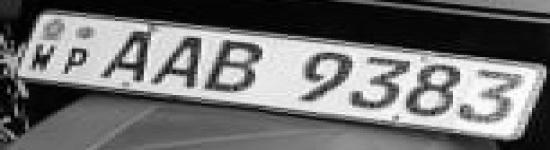3: (447, 63, 531, 131), (340, 51, 421, 114)
8: (396, 57, 470, 125)
9: (297, 48, 356, 105)
A: (98, 27, 151, 85), (154, 34, 205, 89)
B: (205, 37, 270, 93)
P: (59, 46, 91, 76)
W: (27, 44, 58, 72)
